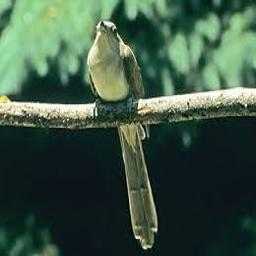Cuckoo: (87, 22, 158, 250)
